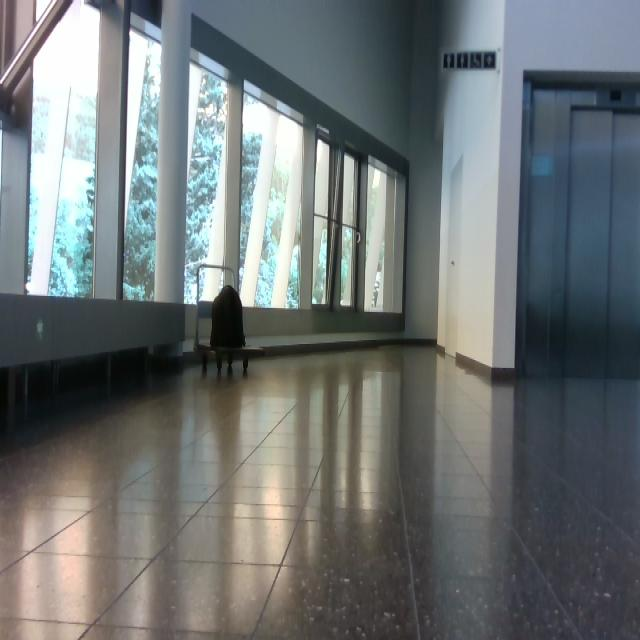chair: (194, 264, 266, 374)
door: (516, 73, 640, 381)
light bulb: (343, 228, 361, 245), (37, 318, 44, 333)
tiled floor: (2, 341, 639, 638)
window: (16, 1, 410, 329), (25, 1, 101, 298), (239, 80, 305, 310), (184, 58, 230, 304)
